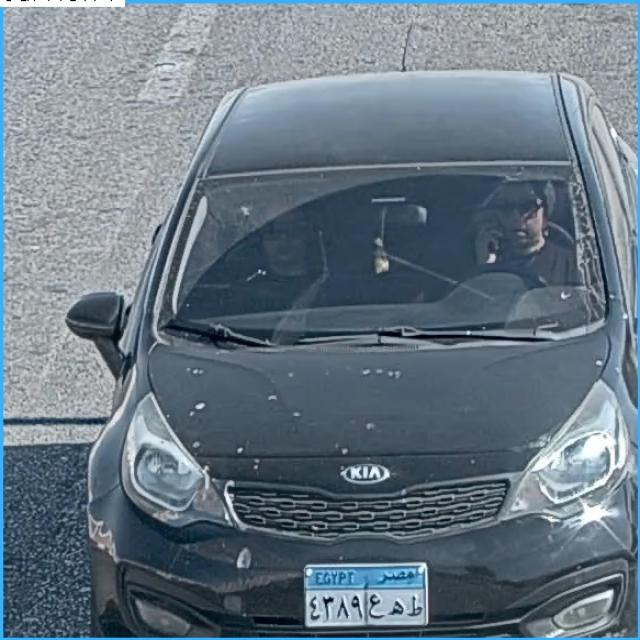windshield: (164, 171, 606, 326)
